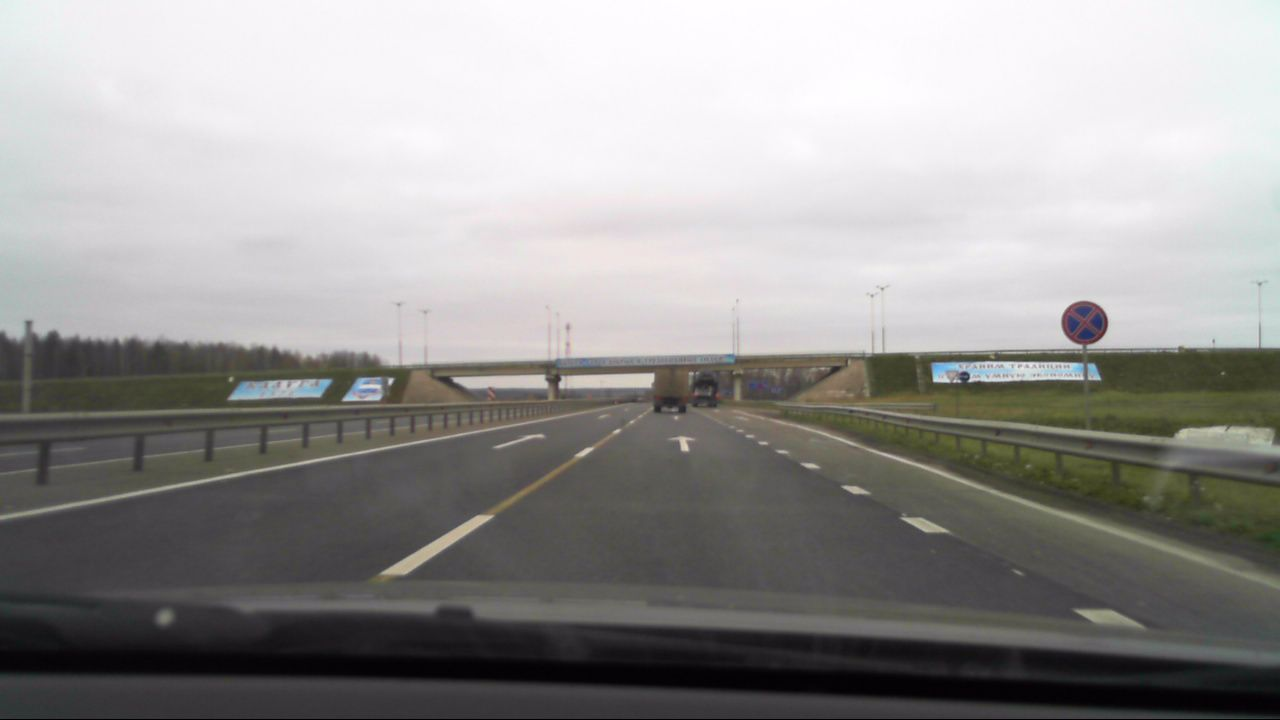No Parking: (1058, 294, 1115, 350)
